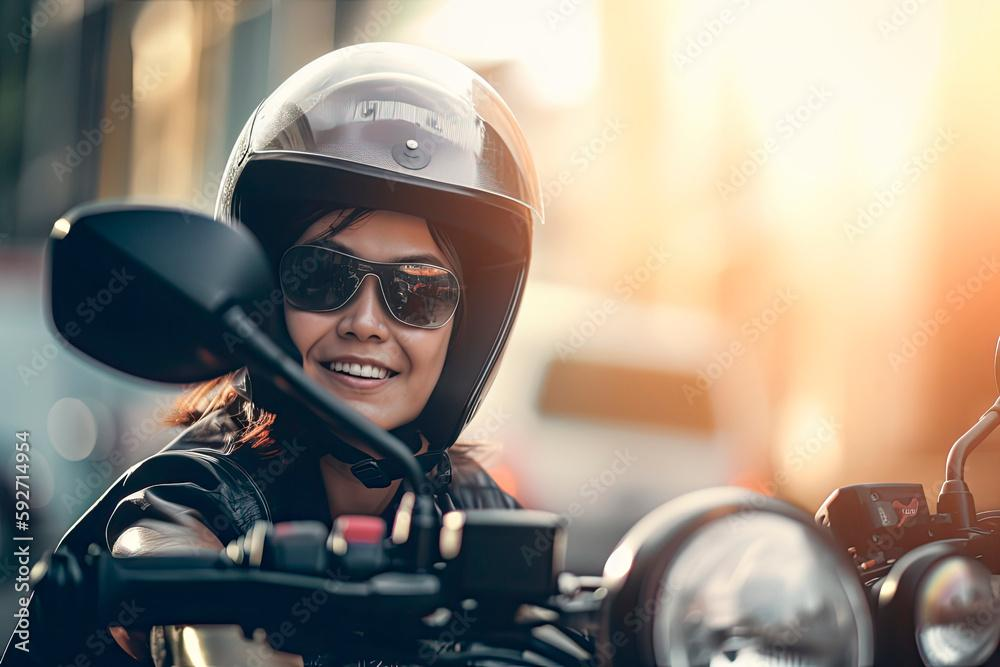helmet: (206, 40, 546, 491)
